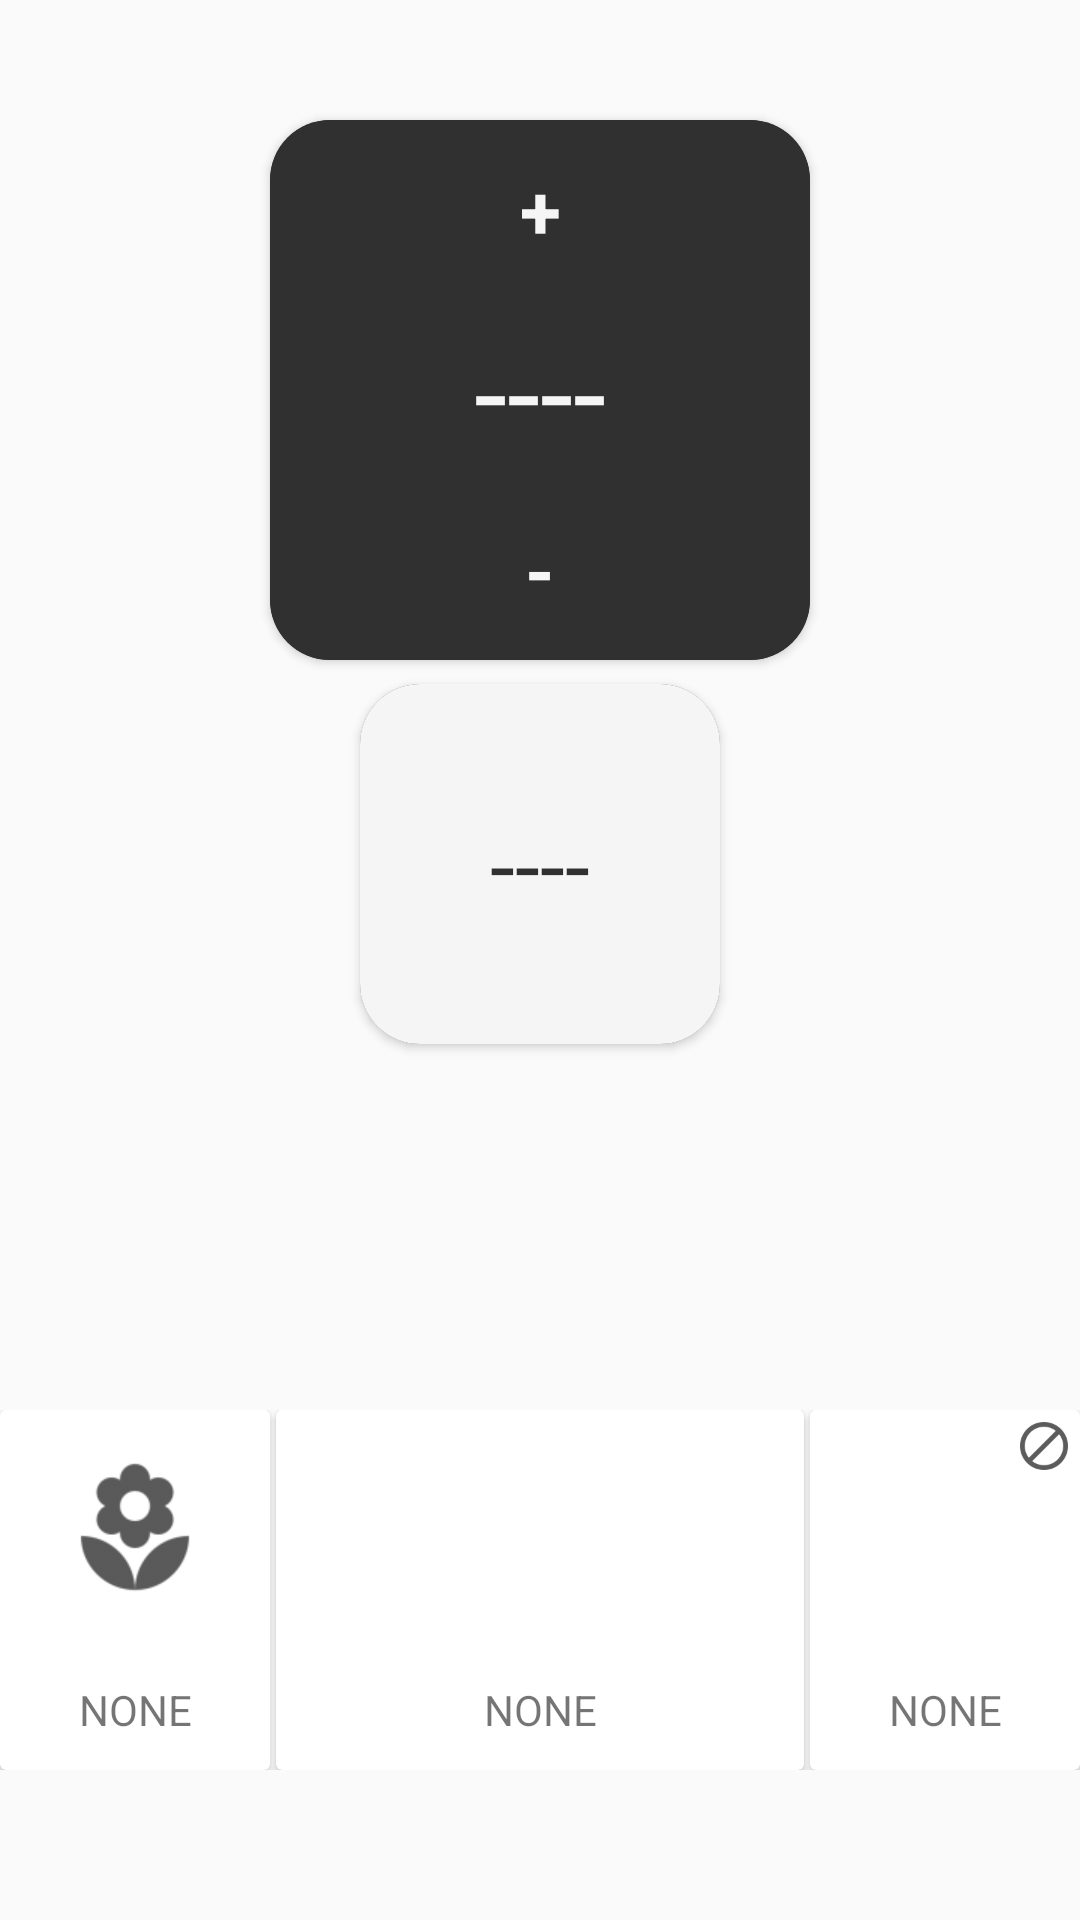

Screen size 1080 x 1920. Icon name, then its box in pixels as box(x1, y1, x2, y2):
block: box(1020, 1422, 1068, 1470)
